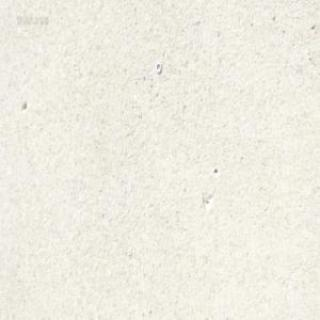Washertrack_idkeyframe: (154, 61, 161, 73)
